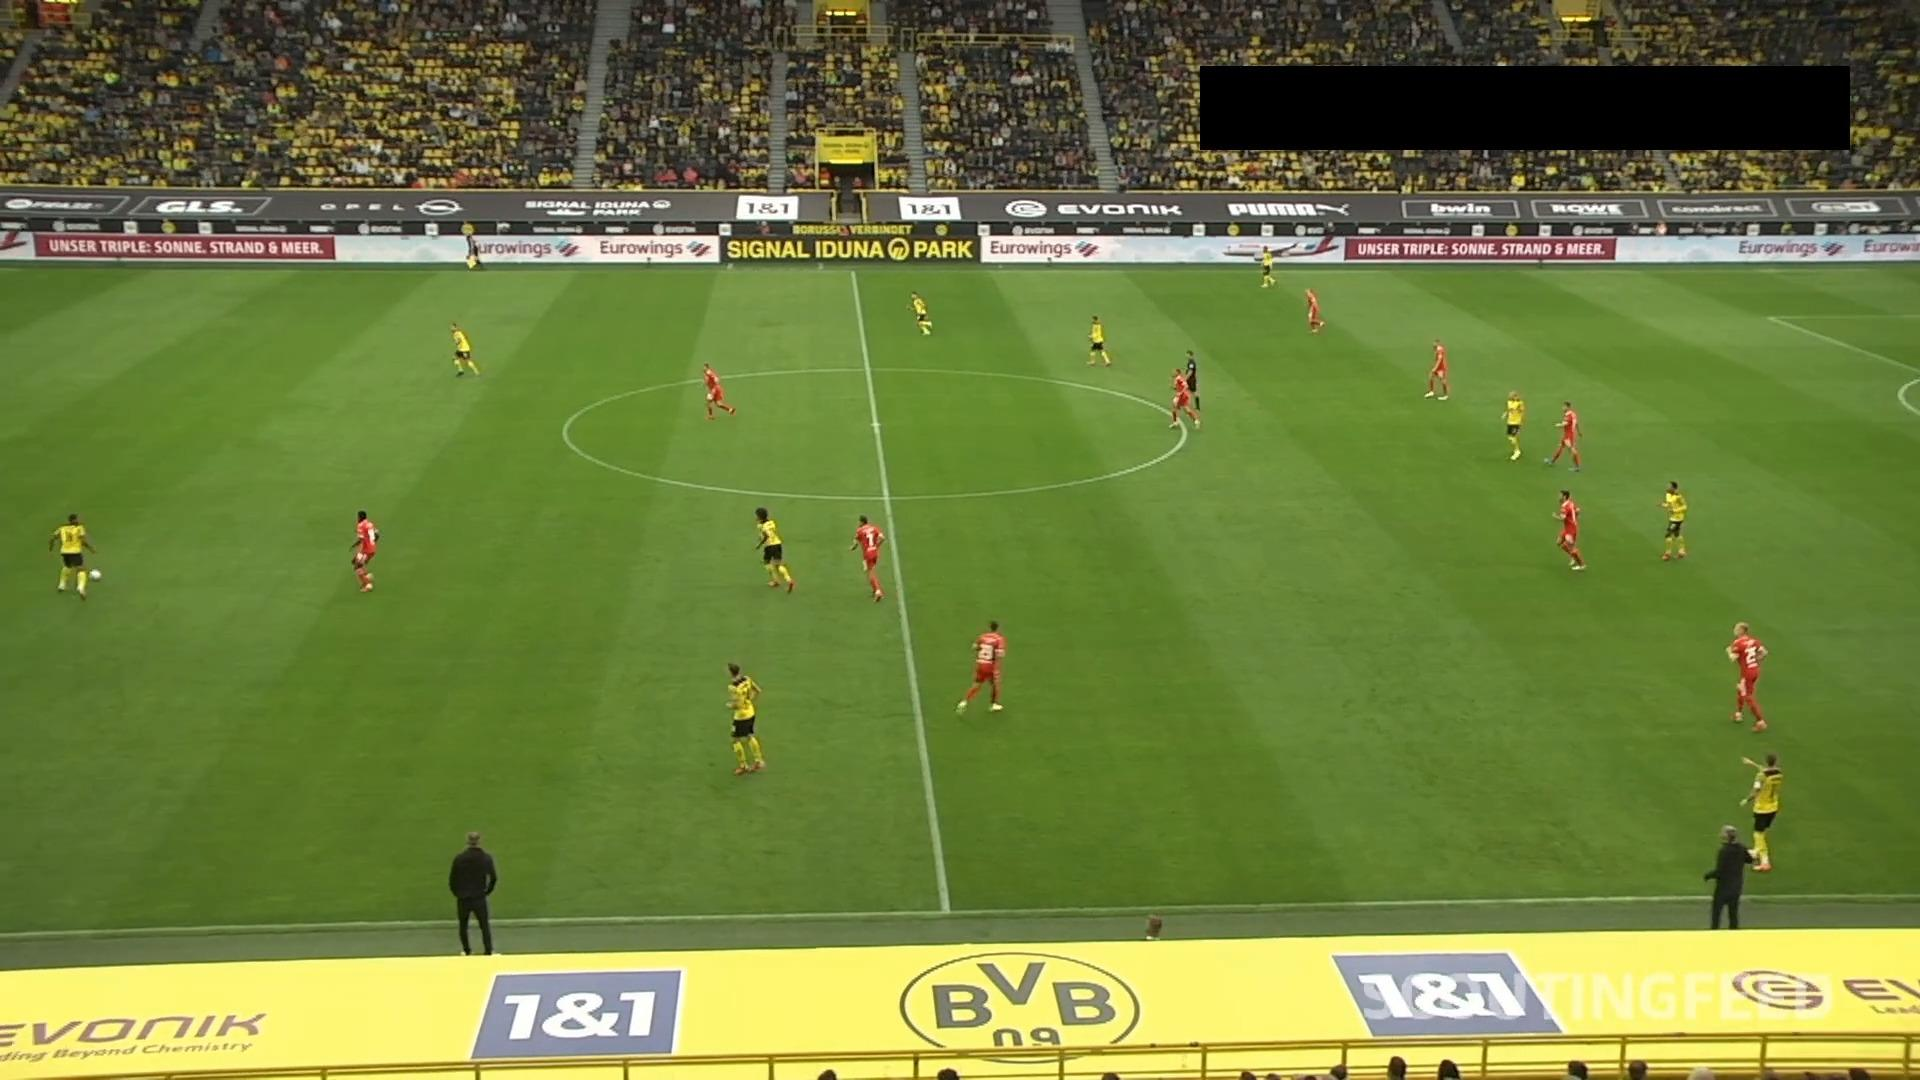ball: (87, 568, 104, 583)
